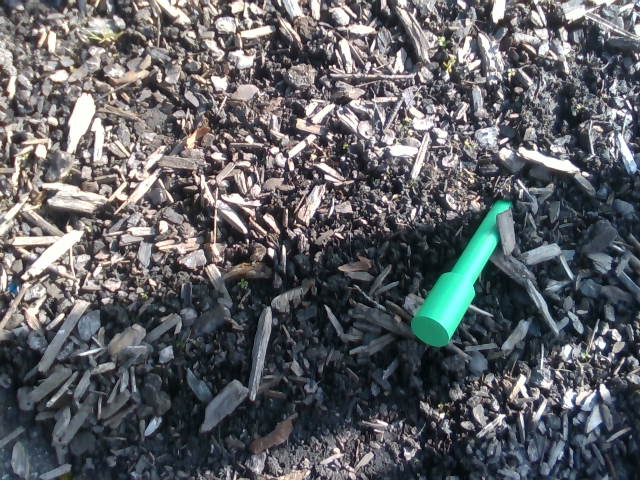Probe: (404, 179, 532, 352)
